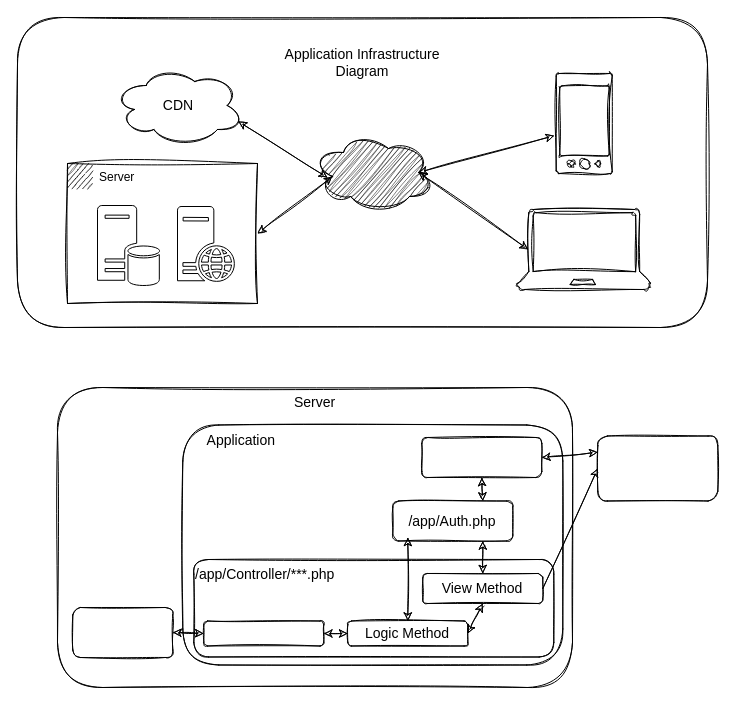
The diagram is 736 pixels wide and 705 high, and some of its shapes have lost their labels. Here are the shapes that lost their labels. From the top down, the centre of each, then its label:
At pixel 481 457: "/src/routes.php".
At pixel 657 468: "Client".
At pixel 122 632: "Database".
At pixel 263 633: "Model Method".
